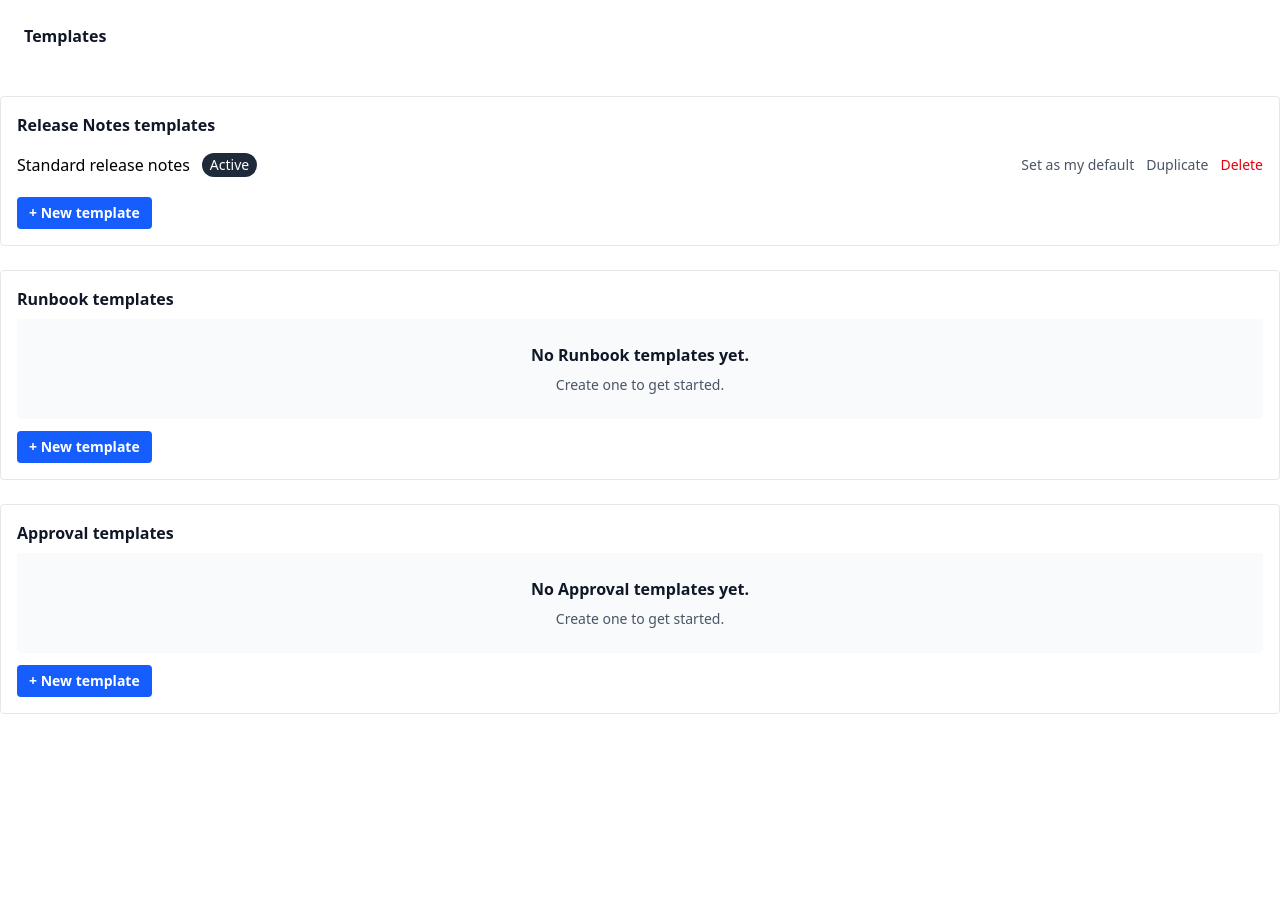
it: TemplatesRoute › opens the delete dialog for the active template with the extra active-template warning sentence
Click the button "Delete". click: (1242, 165)
box: [1220,155,1263,175]
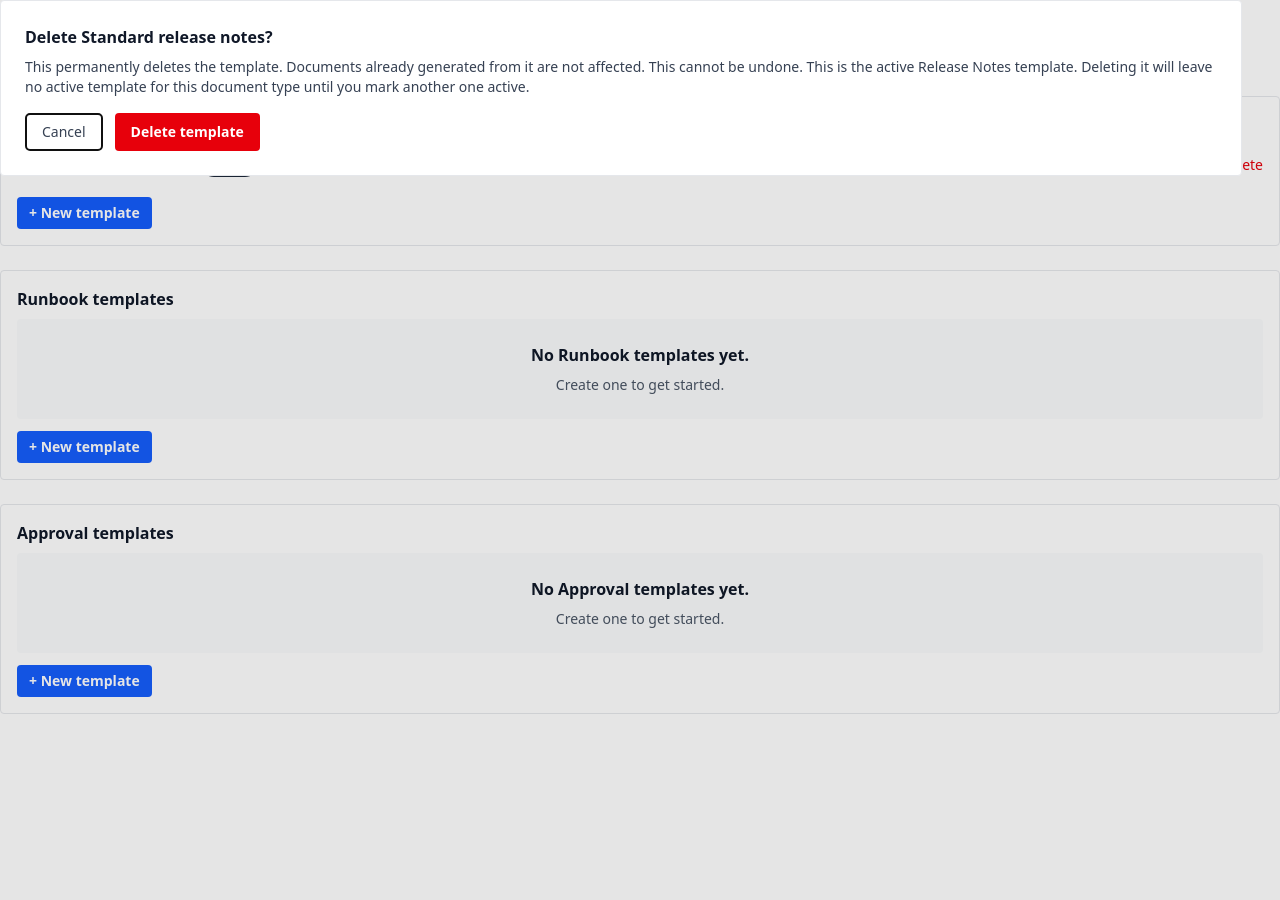
expect the dialog shows "This is the active Release Notes template. Deleting it will leave no active template for this document type until you mark another one active.": met, box [25,57,1212,96]
